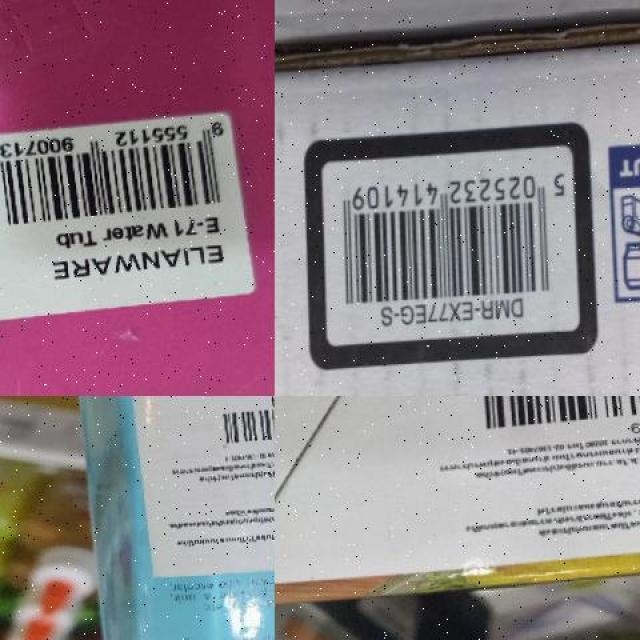Barcode: (320, 156, 576, 344), (0, 123, 243, 241), (449, 396, 640, 441), (207, 396, 274, 451)
